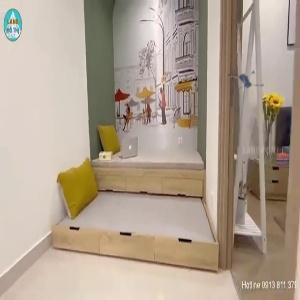drone: (219, 61, 266, 108)
